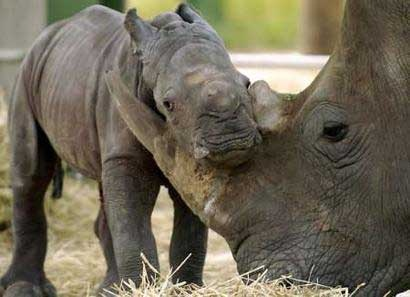rhino: (102, 1, 409, 297), (1, 3, 262, 295)
